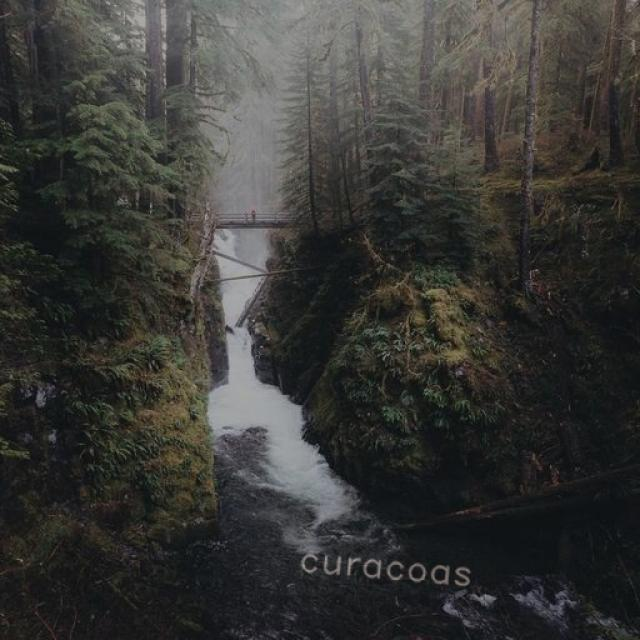watermark: (288, 542, 498, 592)
